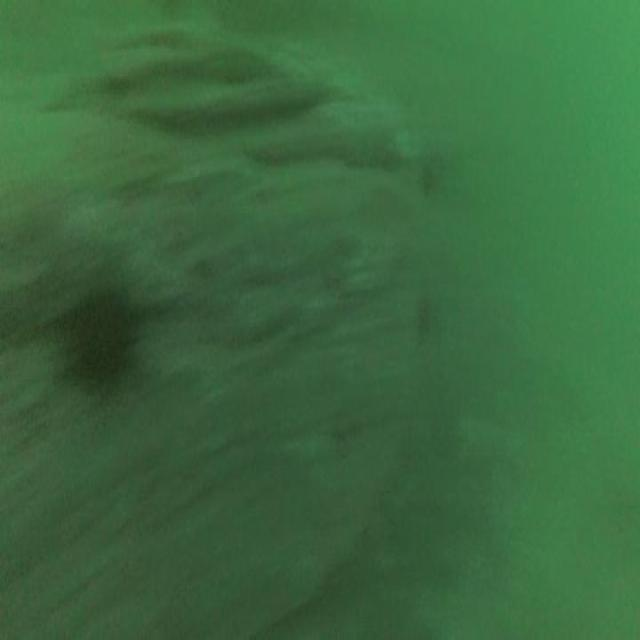echinus: (54, 282, 146, 412)
